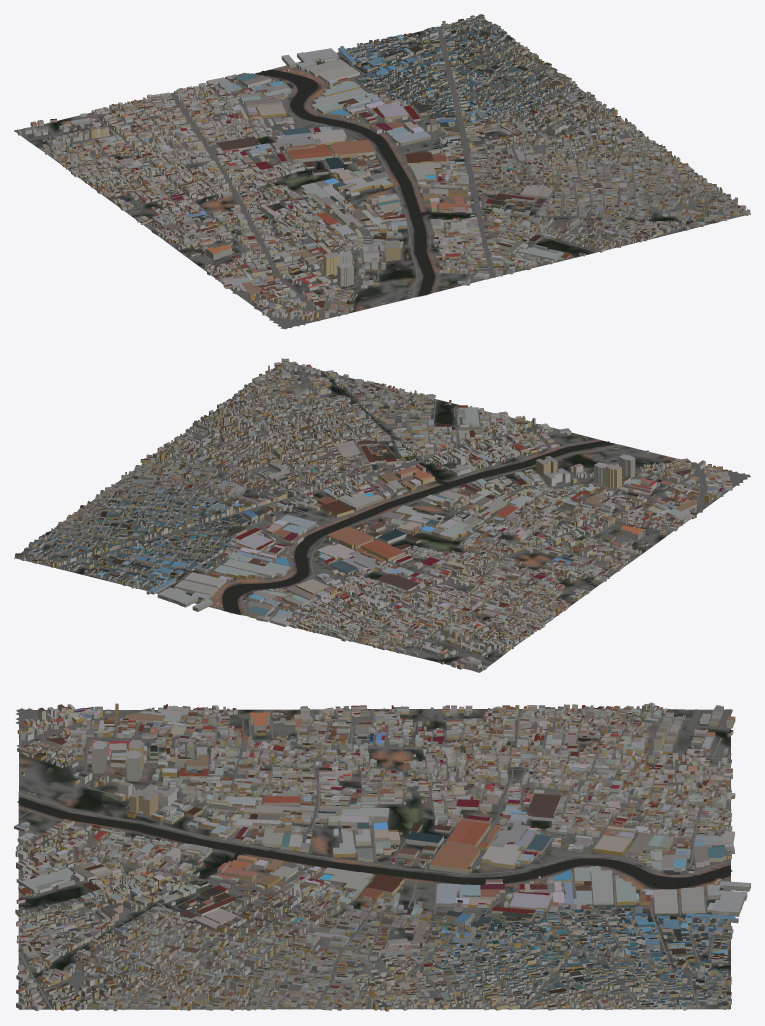
The picture shows the model from 3 angles, top to bottom: view 1: azimuth 30°, elevation 25°; view 2: azimuth 150°, elevation 25°; view 3: azimuth 270°, elevation 25°; orthographic projection. The views are drawn at different scales.
Parts seen in each view (by area): view 1: buildings, ground, roads, water; view 2: buildings, ground, roads, water; view 3: buildings, ground, roads, water.
Part boxes in pixels (left/top/right/bottom): buildings: left=17, top=14, right=750, bottom=321; ground: left=14, top=18, right=750, bottom=326; roads: left=14, top=26, right=745, bottom=329; water: left=255, top=69, right=716, bottom=296; buildings: left=15, top=358, right=732, bottom=670; ground: left=14, top=362, right=743, bottom=670; roads: left=31, top=366, right=750, bottom=672; water: left=222, top=372, right=614, bottom=614; buildings: left=14, top=702, right=750, bottom=1011; ground: left=18, top=708, right=730, bottom=1009; roads: left=15, top=708, right=732, bottom=1009; water: left=17, top=772, right=732, bottom=987.
Bounding box in the file's own units: 1418 × 59.9 × 1449.
